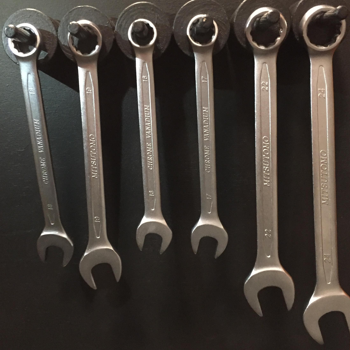bottom: (241, 265, 296, 317), (301, 290, 350, 347), (77, 243, 124, 291), (133, 214, 174, 258), (189, 216, 229, 261), (33, 228, 76, 268)
top: (297, 3, 347, 56), (243, 5, 288, 54), (64, 17, 106, 60), (5, 20, 46, 61), (184, 10, 222, 50), (125, 15, 160, 51)
